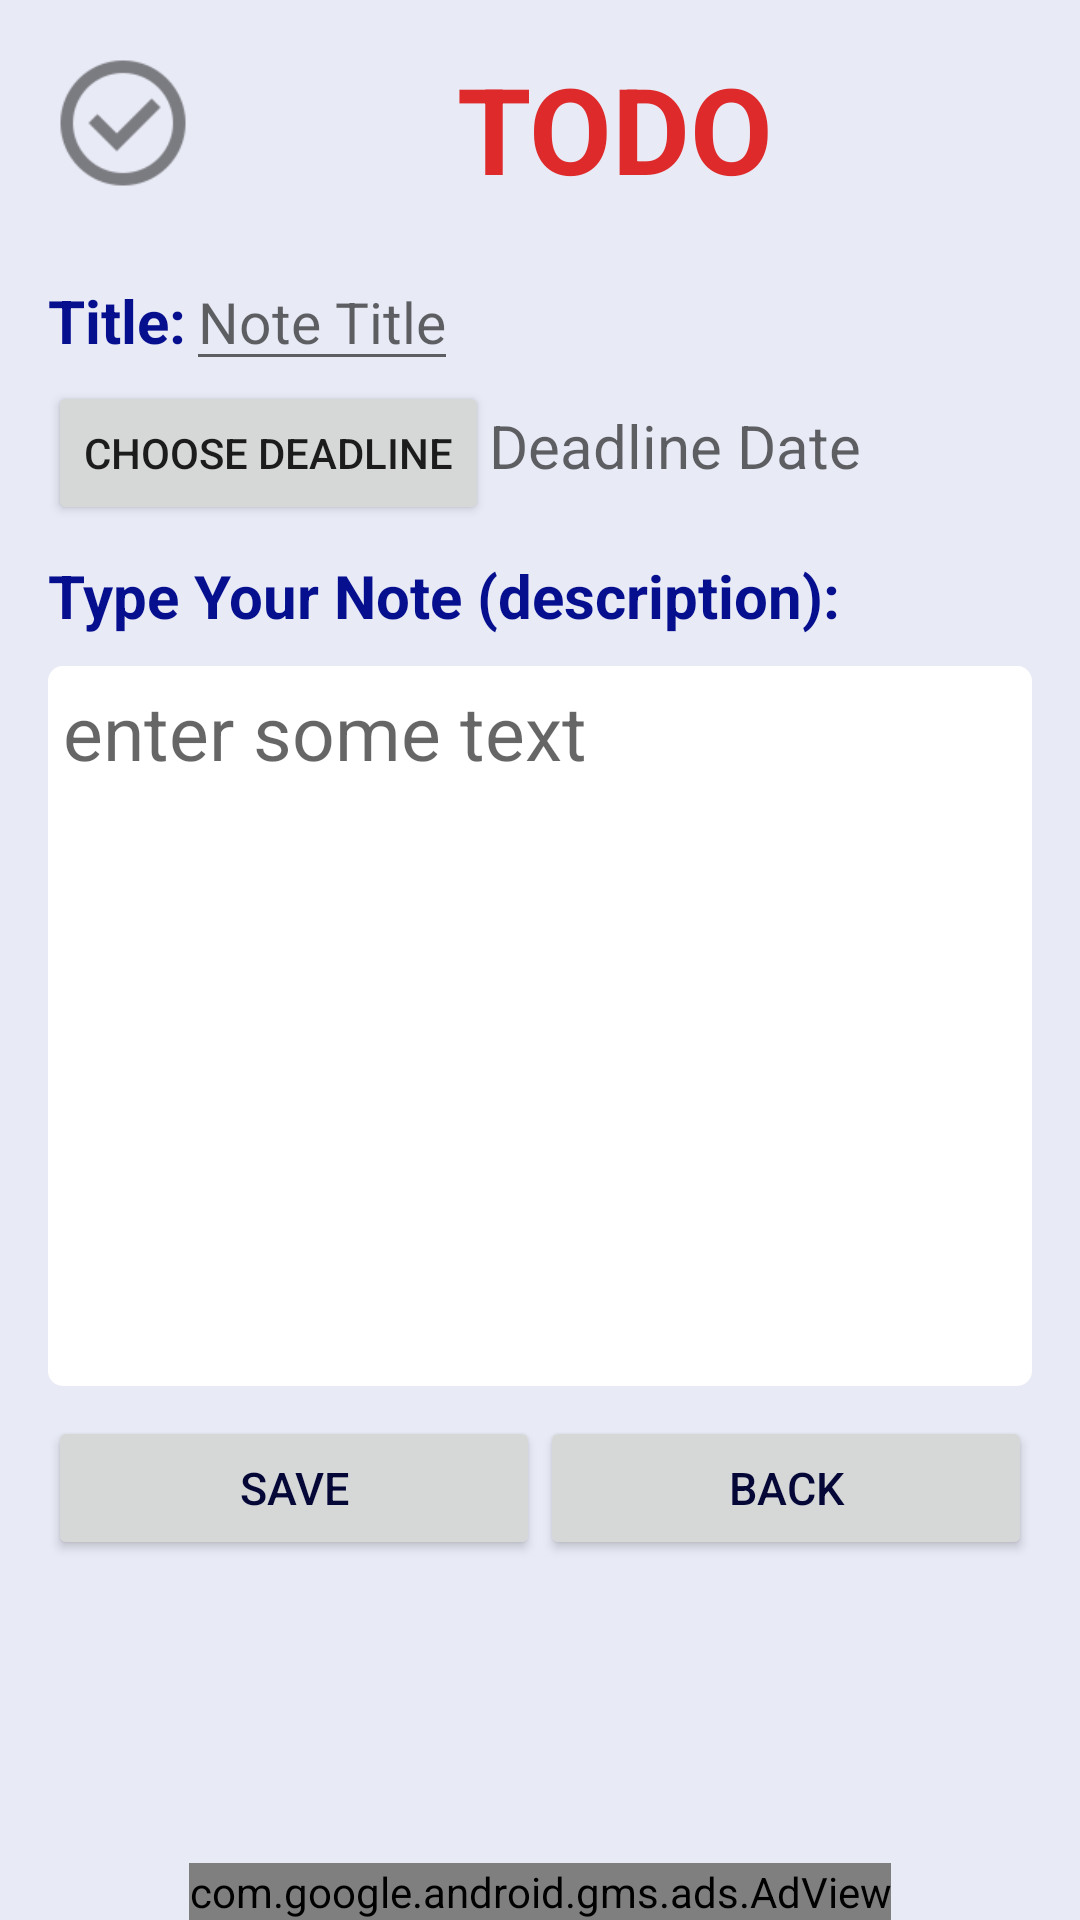

Where to tap for icons on this 1080px×1920px app screen, as (x=x, y=y):
check circle: (x=123, y=123)
